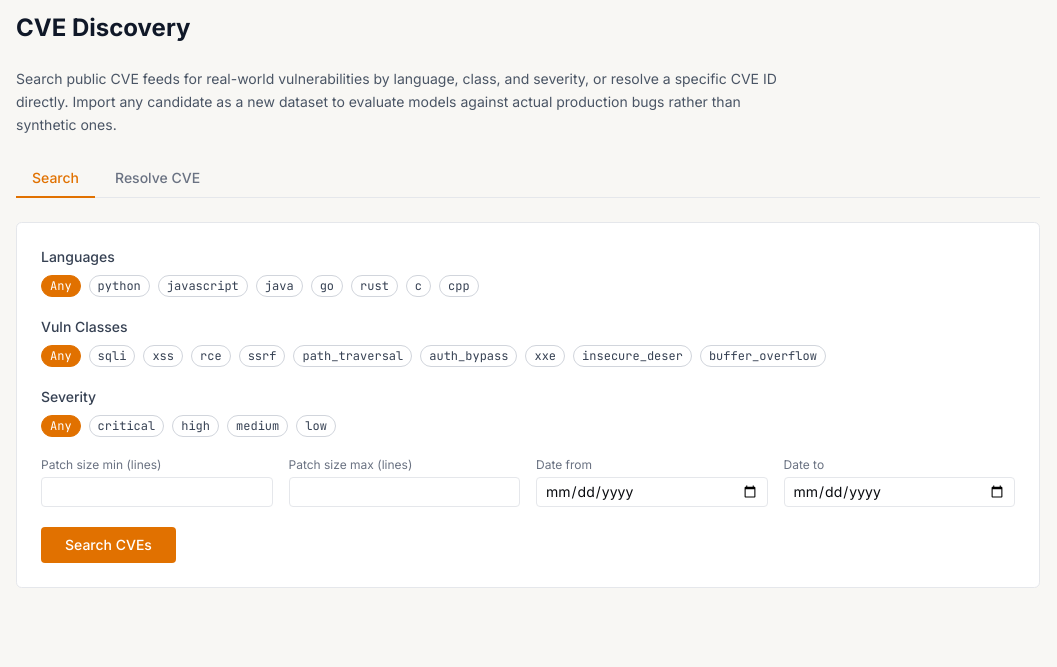
Test: CVEDiscovery — Search tab: issues panel › renders warning issues with role=alert
Click the button "Search CVEs": (108, 545) 41,527 -> 176,563
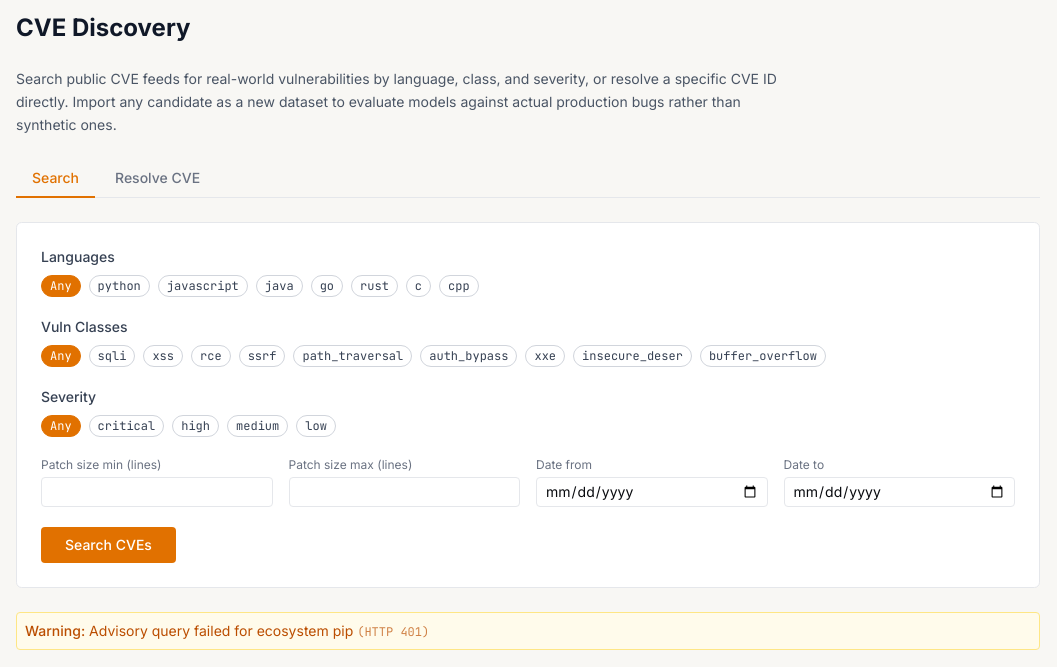
Check: the text "warning: Advisory query failed for ecosystem pip(HTTP 401)" is shown, box 16,612 -> 1040,650
